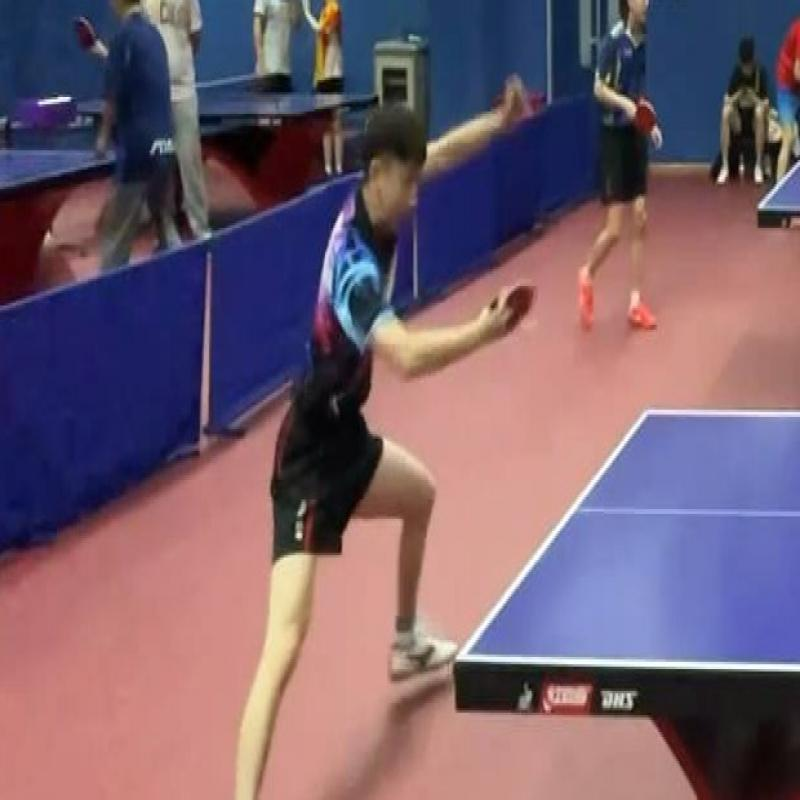bats: (489, 272, 542, 346)
